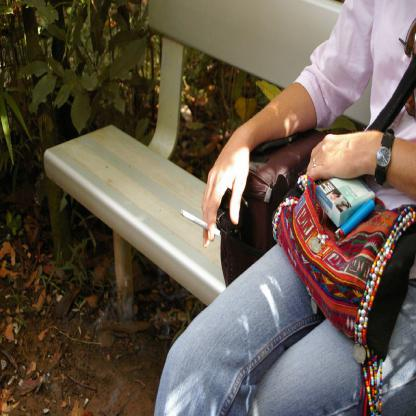smoking: (180, 209, 220, 236)
